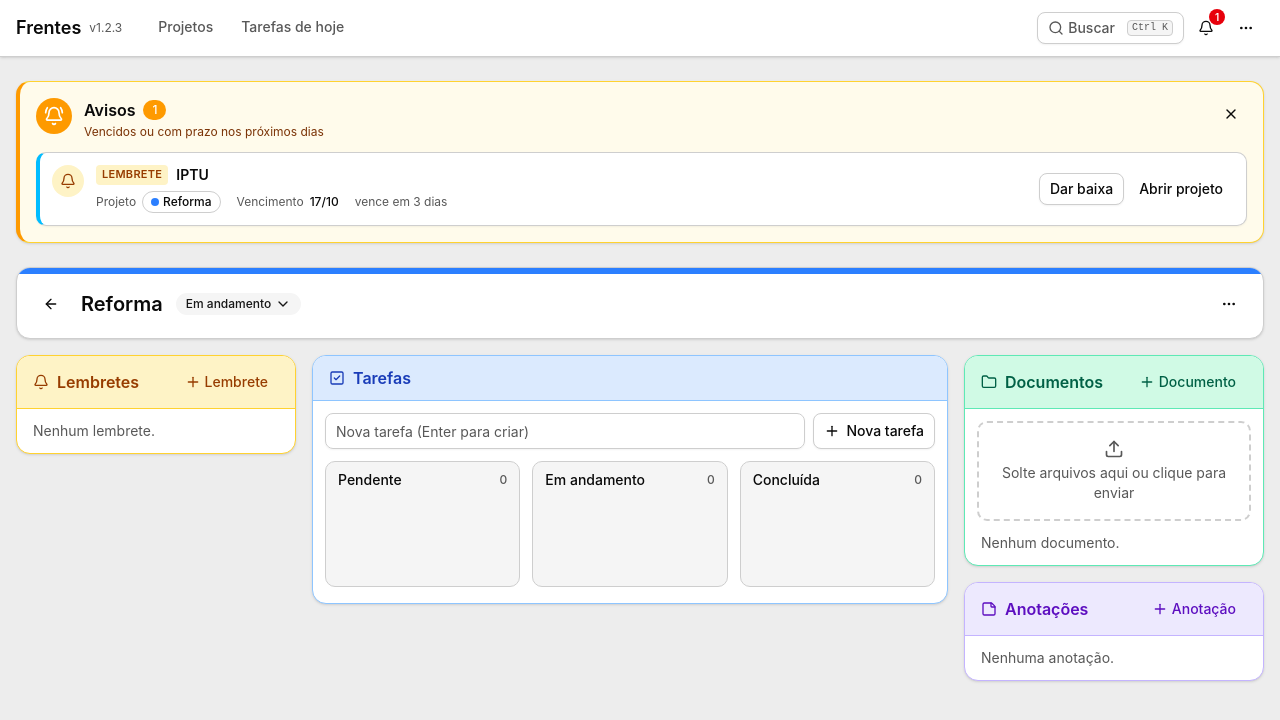
Test: Atalhos (RN-130) › "Esc" fecha o painel de avisos; com um modal aberto, fecha só o modal
Expected: the element "Avisos" is shown, x1=16 y1=81 x2=1264 y2=243
Click the button "Nova tarefa" at (874, 431), box x1=813 y1=413 x2=935 y2=449
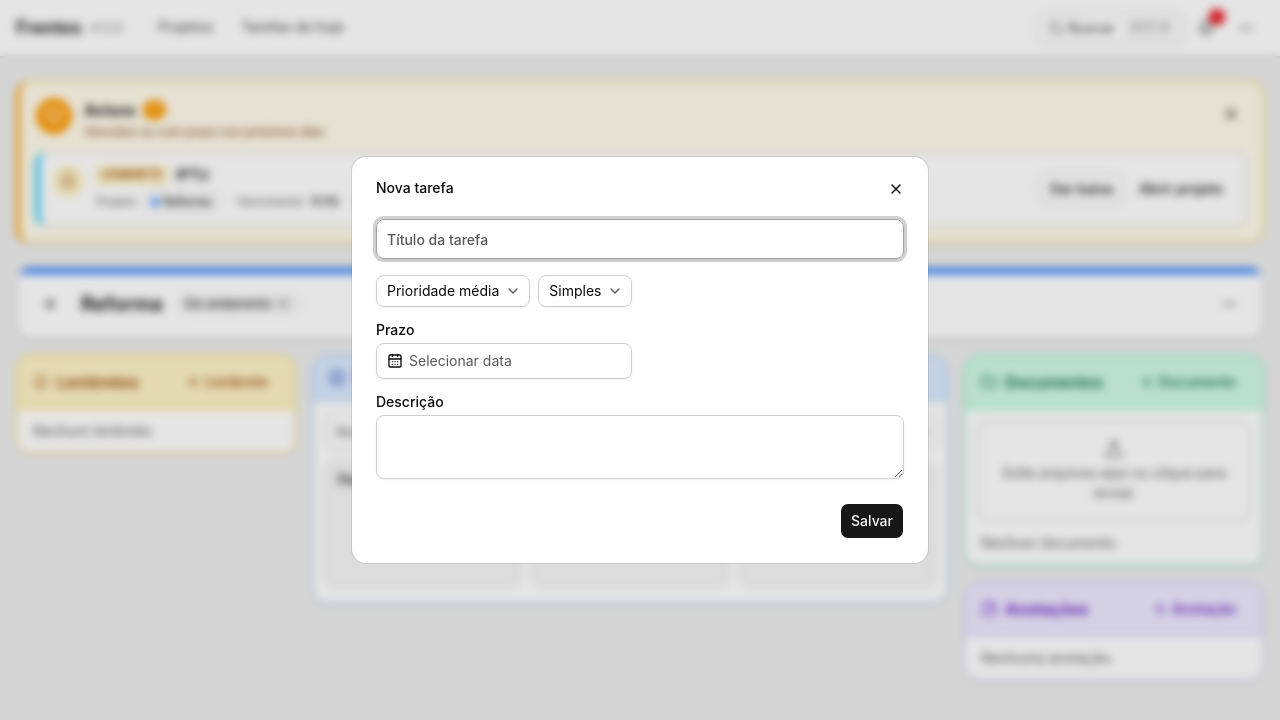
Result: the dialog is shown at x1=352 y1=157 x2=928 y2=563
Press Escape
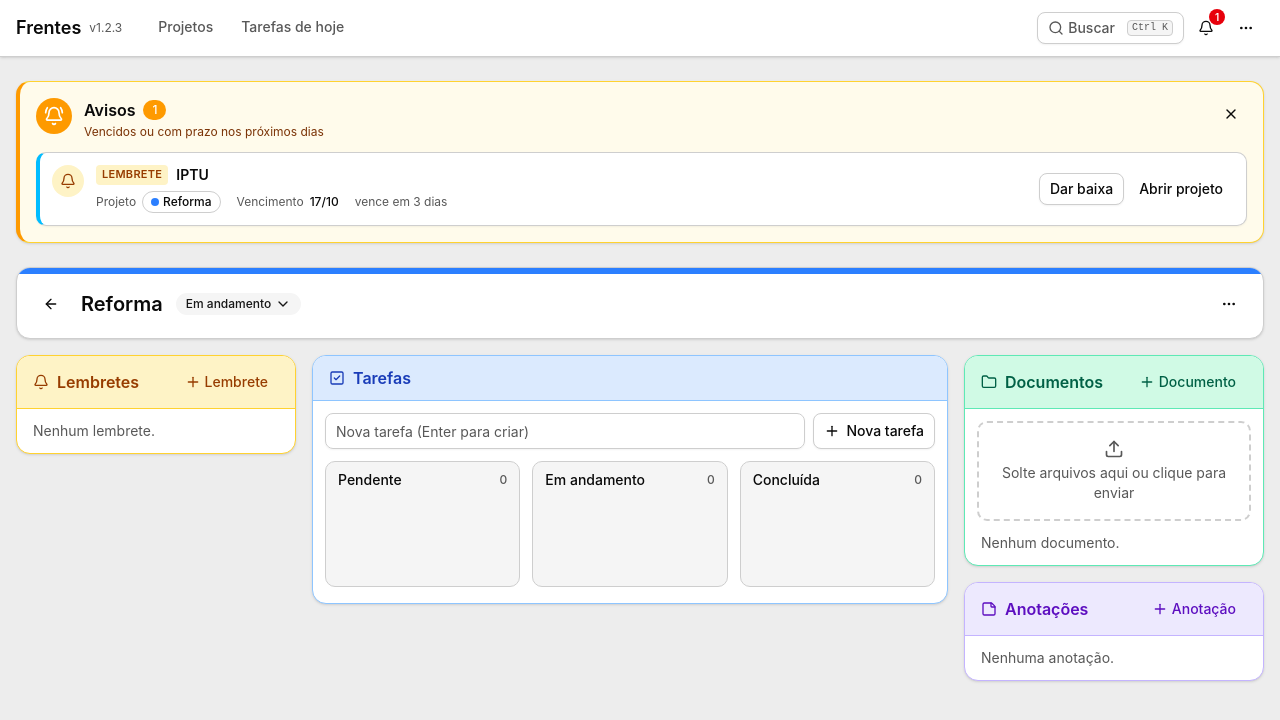
Expected: the element "Avisos" is shown, x1=16 y1=81 x2=1264 y2=243
Result: the dialog is gone
Press Escape
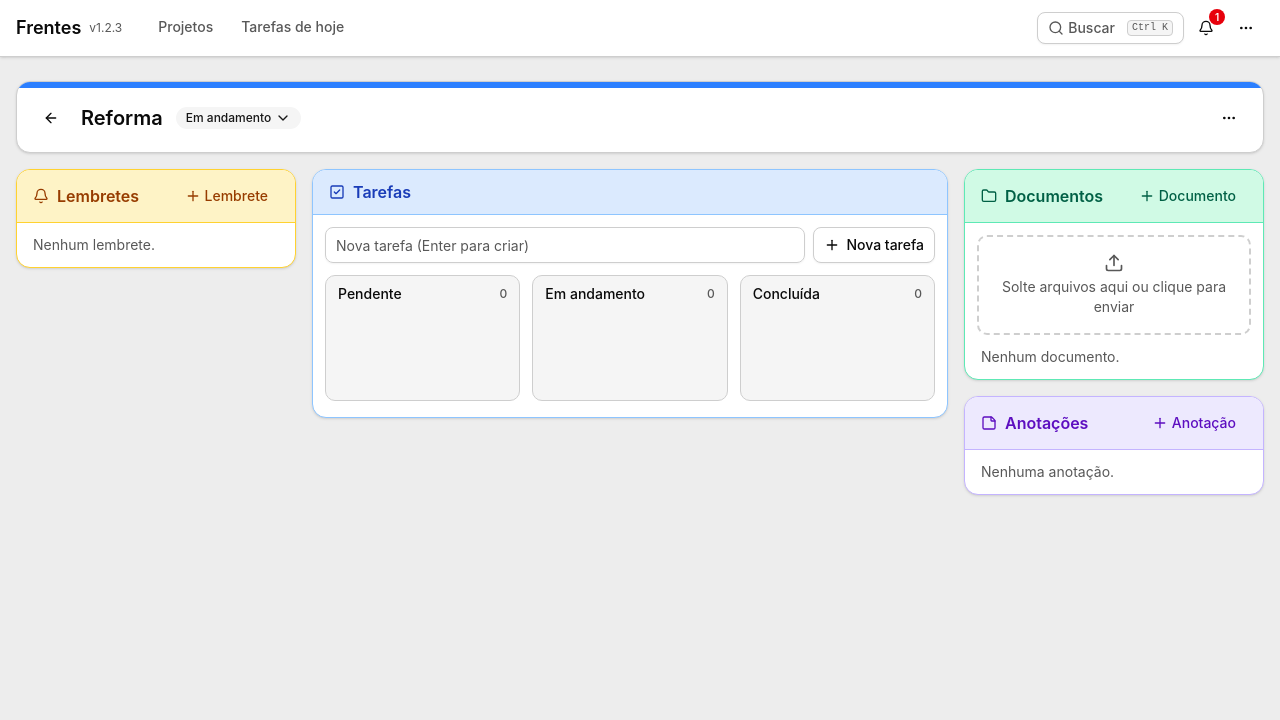
Result: the heading "Avisos" is gone
